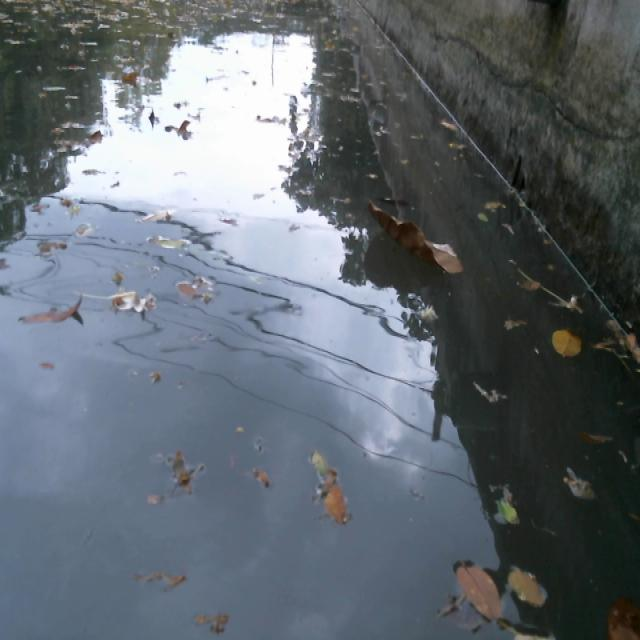Big-leaf: (363, 196, 468, 281)
Small-leaf: (448, 558, 506, 621), (12, 292, 90, 327), (505, 561, 549, 607), (594, 330, 640, 372), (602, 592, 640, 640), (105, 290, 162, 319), (136, 567, 188, 596), (321, 481, 352, 529), (465, 377, 513, 407), (172, 442, 195, 497), (550, 322, 584, 359), (490, 493, 524, 529), (142, 233, 196, 254), (560, 474, 600, 501), (309, 443, 331, 482), (247, 466, 278, 493), (162, 112, 193, 136), (582, 427, 616, 448), (174, 277, 202, 302), (134, 207, 175, 224), (255, 109, 292, 127), (142, 484, 166, 510), (35, 238, 70, 255), (435, 113, 459, 133), (86, 123, 111, 142), (512, 281, 545, 293), (120, 69, 142, 85), (483, 198, 509, 211), (472, 208, 490, 225), (148, 365, 162, 385)
